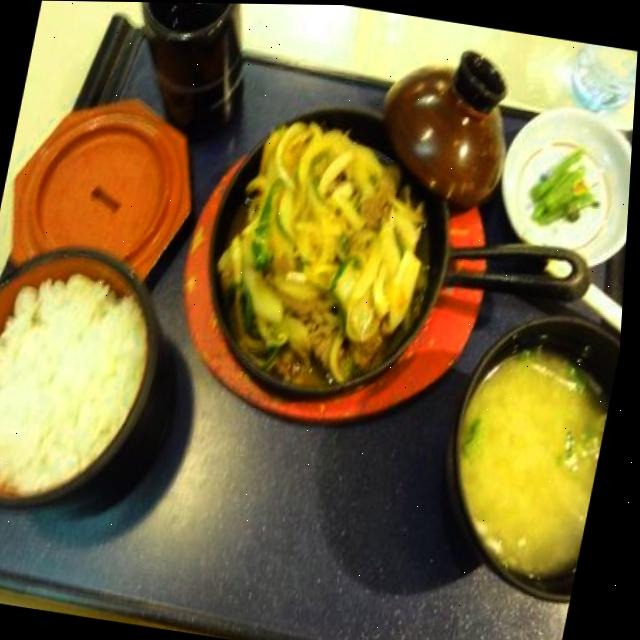米饭主食: (0, 227, 201, 537)
